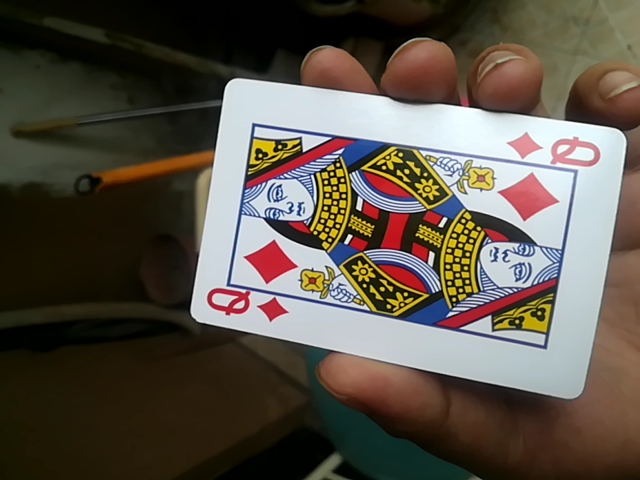fk q: (192, 72, 626, 403)
